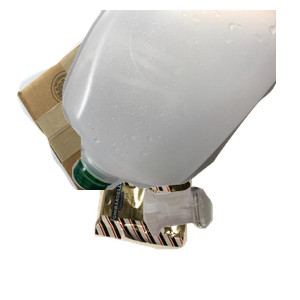cardboard: (14, 10, 222, 190)
glass: (141, 184, 300, 300)
plastic: (60, 10, 300, 190)
trash: (92, 158, 277, 300)
